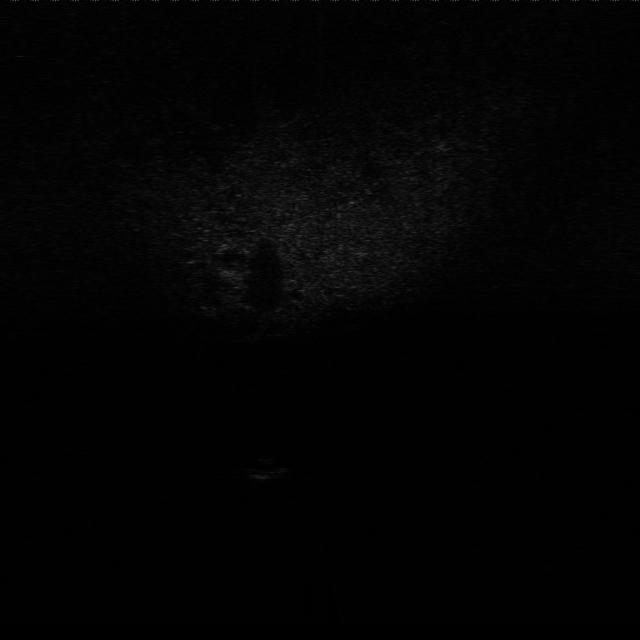ball: (250, 458, 290, 483)
